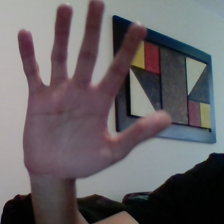left: (7, 4, 182, 188)
